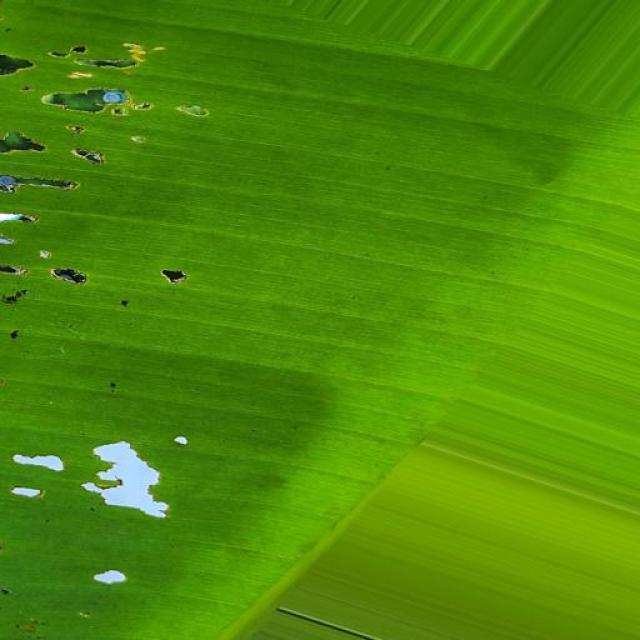Black_rot: (0, 25, 239, 363), (0, 428, 222, 527), (78, 558, 139, 600)
